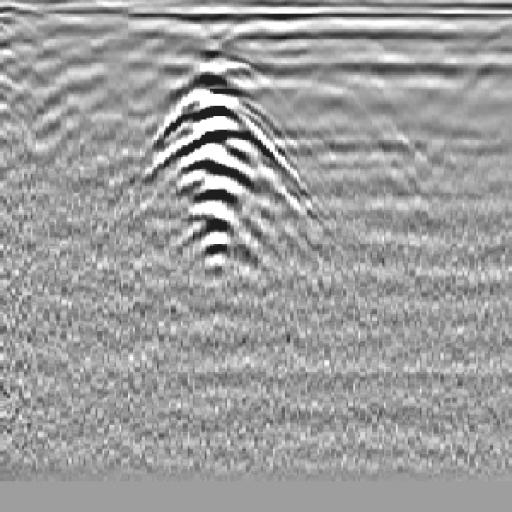metalic: (135, 51, 294, 272)
